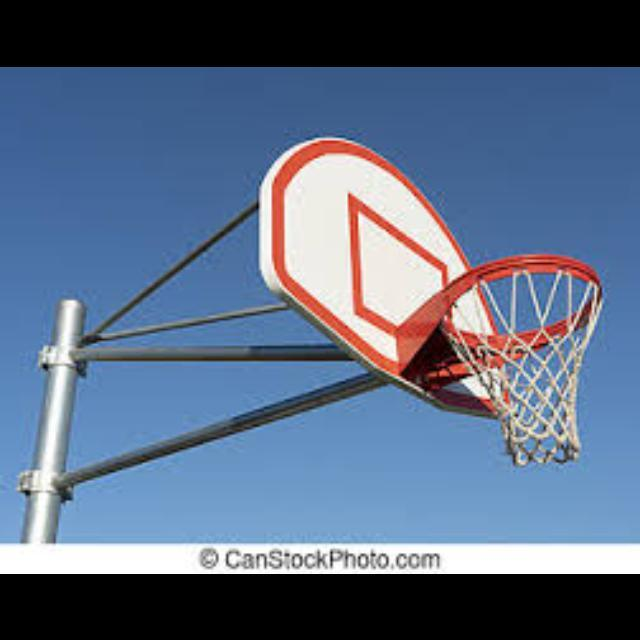rim: (440, 254, 604, 466)
